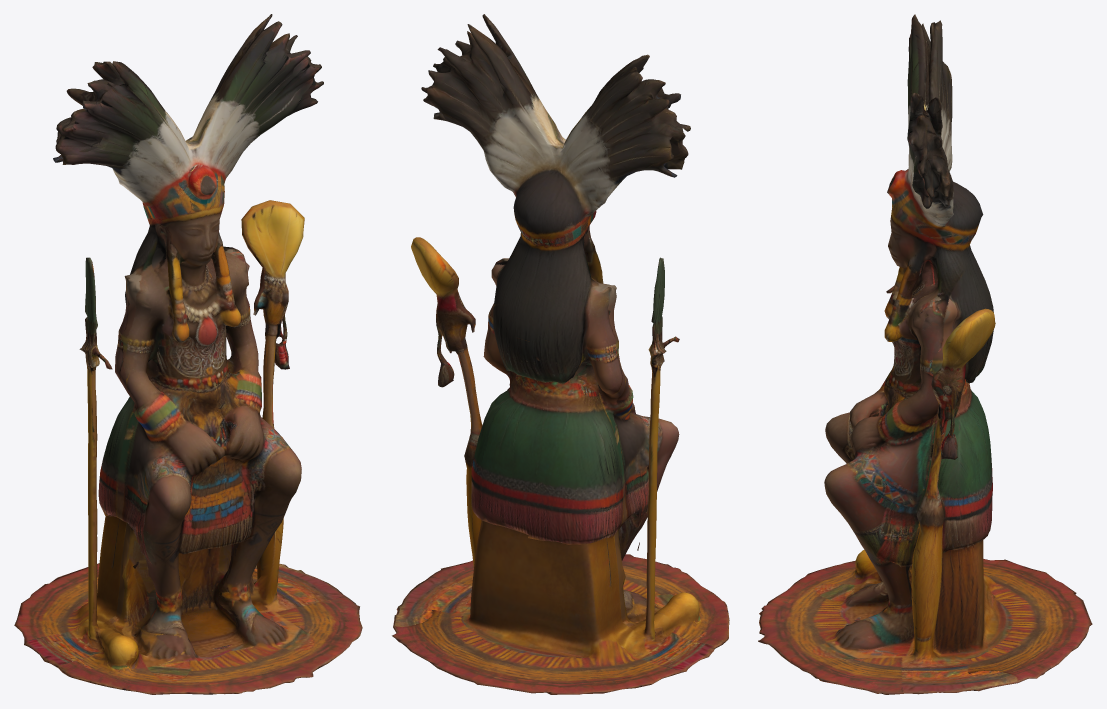
File: crea_un_cuadro_con_il_1030034345_texture.fbx
3 renders of one model, left to right at view 1: azimuth 30°, elevation 25°; view 2: azimuth 150°, elevation 25°; view 3: azimuth 270°, elevation 25°, orthographic. The views are drawn at different scales.
Parts seen in each view (by area): view 1: input; view 2: input; view 3: input.
Boxes of the visible parts, <box> form: input: <box>14,14,362,694</box>; input: <box>392,14,729,694</box>; input: <box>758,14,1092,694</box>.
Bounding box in the file's own units: 103 × 200 × 105.
1 material, 1 textured.
